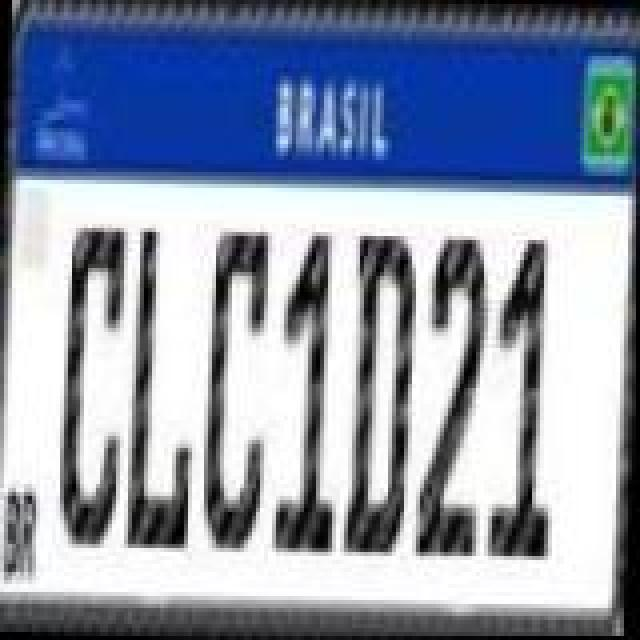1: (486, 226, 566, 566), (270, 226, 350, 554)
2: (414, 220, 494, 560)
C: (54, 220, 134, 548), (200, 226, 276, 550)
D: (344, 224, 420, 560)
L: (122, 222, 202, 550)
